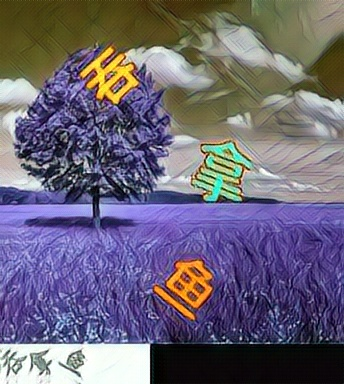C4C3: (189, 138, 252, 204)
CDCC: (79, 41, 142, 107)
D3E3: (151, 257, 214, 323)
